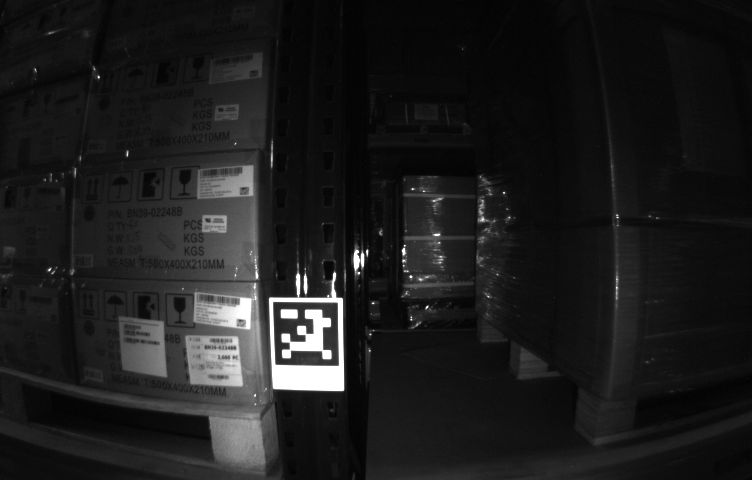True Barcode: (185, 333, 241, 387)
